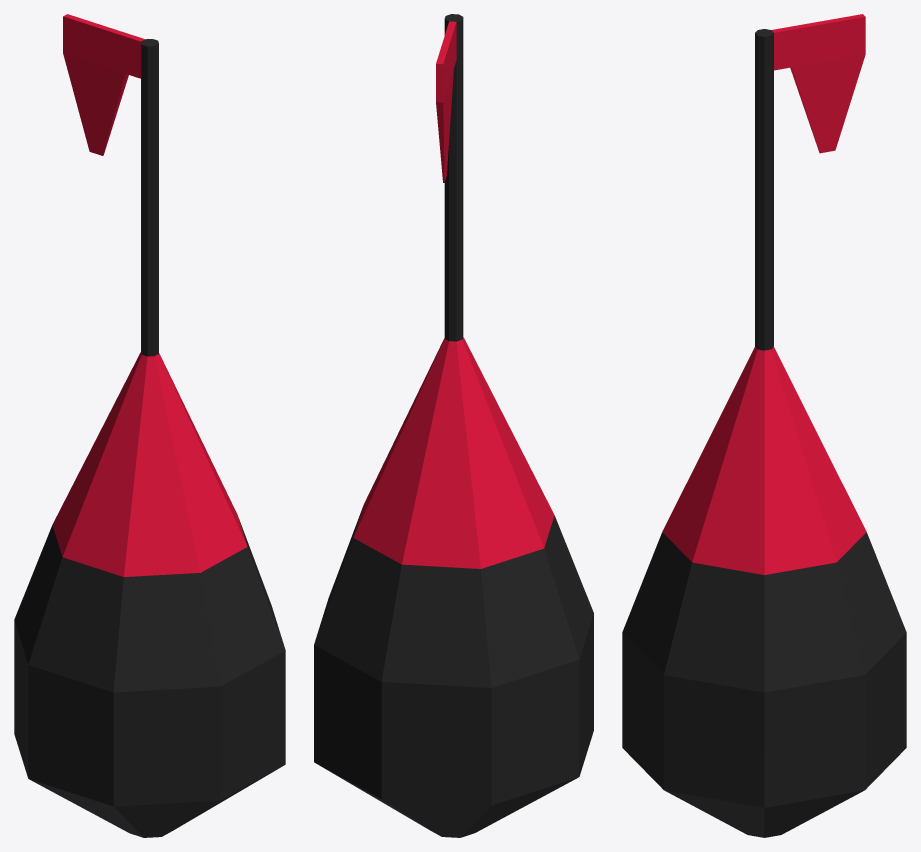
File: Beacon.fbx
3 views of the same model, side by side, from view 1: azimuth 30°, elevation 25°; view 2: azimuth 150°, elevation 25°; view 3: azimuth 270°, elevation 25° (orthographic). The views are drawn at different scales.
Parts seen in each view (by area): view 1: Cylinder.003, Cylinder.002, Cylinder.001, Cylinder; view 2: Cylinder.003, Cylinder.002, Cylinder, Cylinder.001; view 3: Cylinder.003, Cylinder.002, Cylinder.001, Cylinder.
Part boxes in pixels (<box>): Cylinder.003: <box>14,518,285,837</box>; Cylinder.002: <box>52,352,247,576</box>; Cylinder.001: <box>63,14,144,155</box>; Cylinder: <box>141,39,158,356</box>; Cylinder.003: <box>314,508,593,837</box>; Cylinder.002: <box>353,337,554,568</box>; Cylinder: <box>444,14,463,341</box>; Cylinder.001: <box>436,21,456,182</box>; Cylinder.003: <box>622,532,906,837</box>; Cylinder.002: <box>662,347,866,574</box>; Cylinder.001: <box>771,14,865,153</box>; Cylinder: <box>755,29,773,350</box>.
Bounding box in the file's own units: 27.81 × 85.8 × 27.81.
